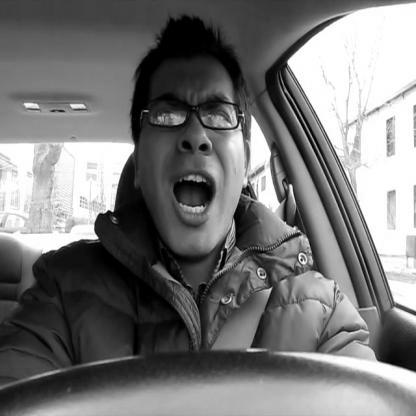seatbelt: (90, 0, 294, 344)
